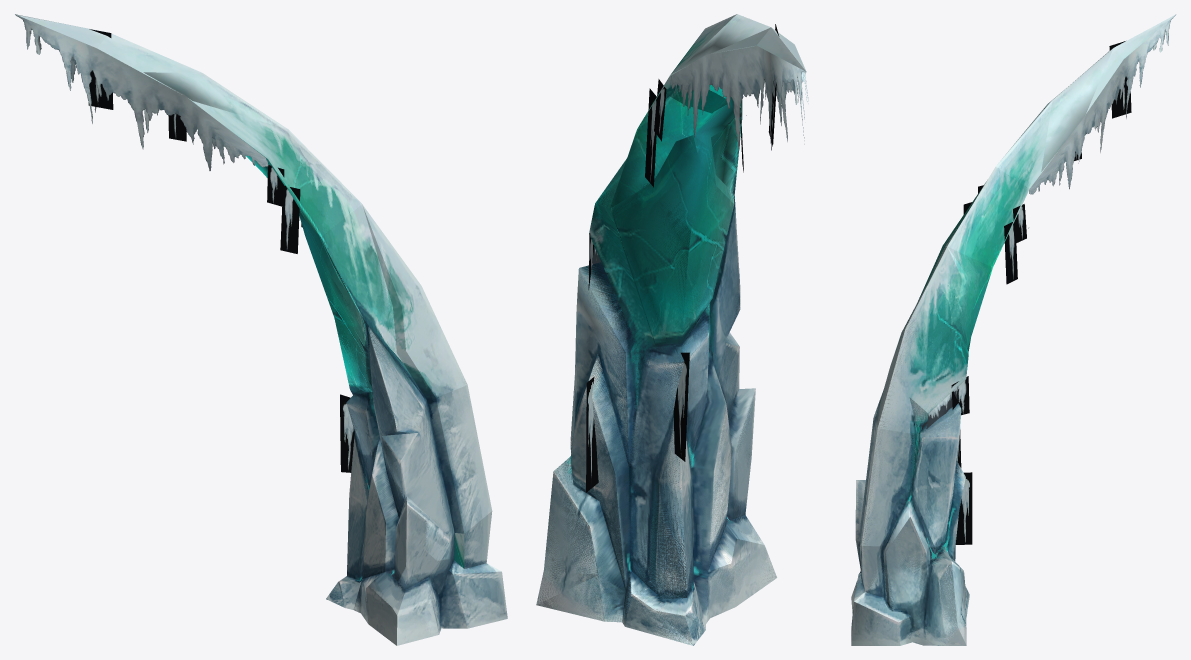
Rendered from LastBossMap1_O.fbx.
3 views of the same model, side by side, from view 1: azimuth 30°, elevation 25°; view 2: azimuth 150°, elevation 25°; view 3: azimuth 270°, elevation 25° (orthographic). The views are drawn at different scales.
Parts seen in each view (by area): view 1: iceshard_standing; view 2: iceshard_standing; view 3: iceshard_standing.
Part boxes in pixels (x1=…): iceshard_standing: x1=15, y1=14, x2=507, y2=645; iceshard_standing: x1=536, y1=14, x2=808, y2=645; iceshard_standing: x1=851, y1=14, x2=1176, y2=645.
Bounding box in the file's own units: 1880 × 3103 × 1852.
